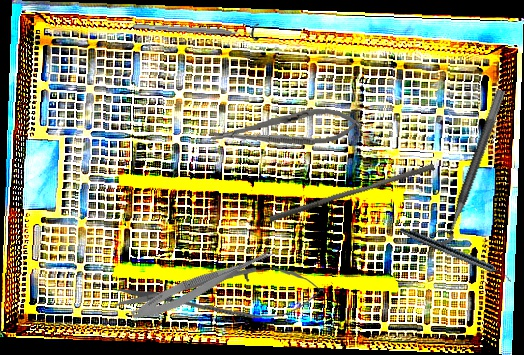Fixation Ring: (427, 83, 507, 249), (132, 16, 261, 43)
Handpiece: (397, 225, 515, 284)
Micro Scissor: (128, 237, 282, 327), (113, 264, 325, 324)
Needle Holder: (207, 104, 364, 154)
Pusher: (268, 157, 436, 229)
